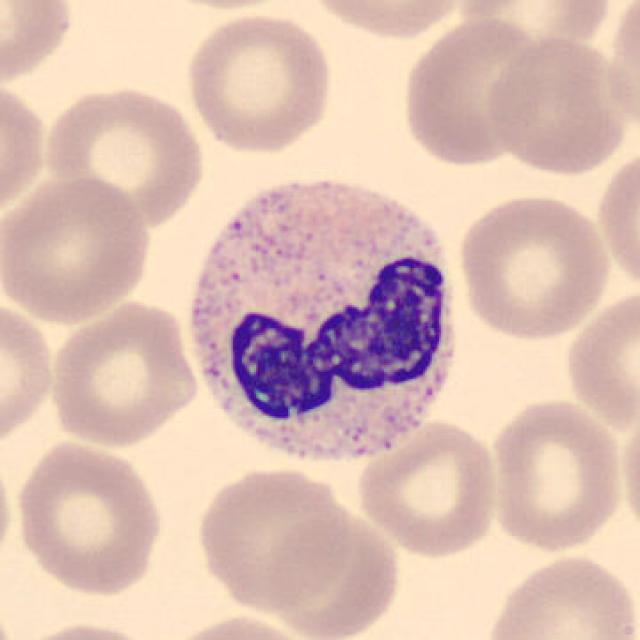Neutrophil: (169, 152, 476, 486)
RBC: (398, 11, 556, 171), (11, 436, 165, 598), (453, 189, 615, 342), (41, 81, 208, 229), (44, 296, 201, 452), (192, 462, 352, 613), (1, 171, 154, 326), (483, 394, 628, 556), (181, 9, 338, 157), (352, 414, 503, 561), (482, 32, 633, 178), (263, 502, 404, 640), (480, 550, 638, 640), (560, 284, 638, 434), (453, 0, 615, 60), (0, 296, 59, 455), (0, 76, 50, 226), (592, 141, 640, 296), (300, 0, 469, 42), (0, 0, 76, 88), (601, 0, 640, 139), (160, 610, 320, 640), (9, 617, 162, 640)
